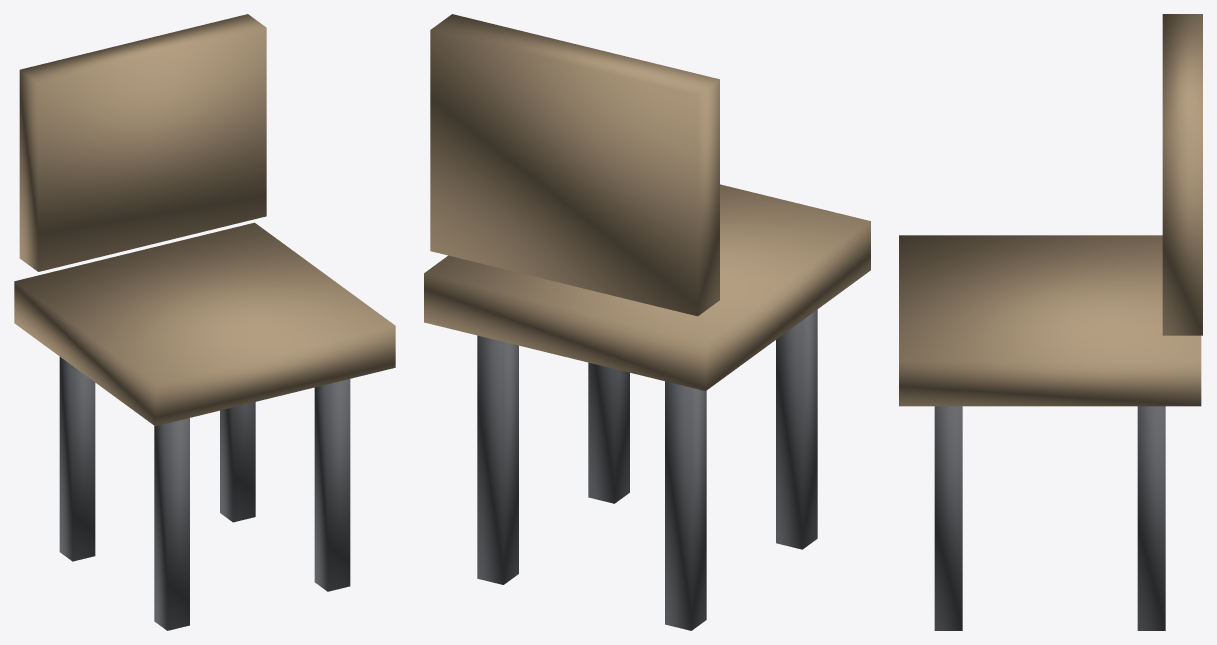
File: school_chair.glb
3 renders of one model, left to right at view 1: azimuth 30°, elevation 25°; view 2: azimuth 150°, elevation 25°; view 3: azimuth 270°, elevation 25°, orthographic. The views are drawn at different scales.
Parts seen in each view (by area): view 1: world; view 2: world; view 3: world.
Boxes of the visible parts, left/top/right/bottom form: world: left=14, top=14, right=395, bottom=630; world: left=424, top=14, right=870, bottom=630; world: left=899, top=14, right=1202, bottom=630.
Bounding box in the file's own units: 0.4803 × 0.9072 × 0.4902.
